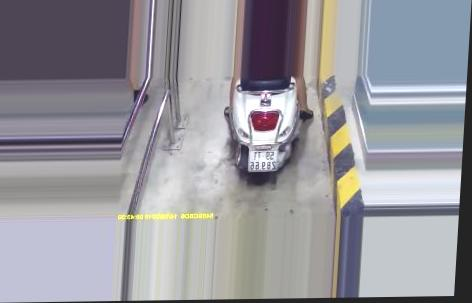License_Plate: (244, 147, 282, 173)
